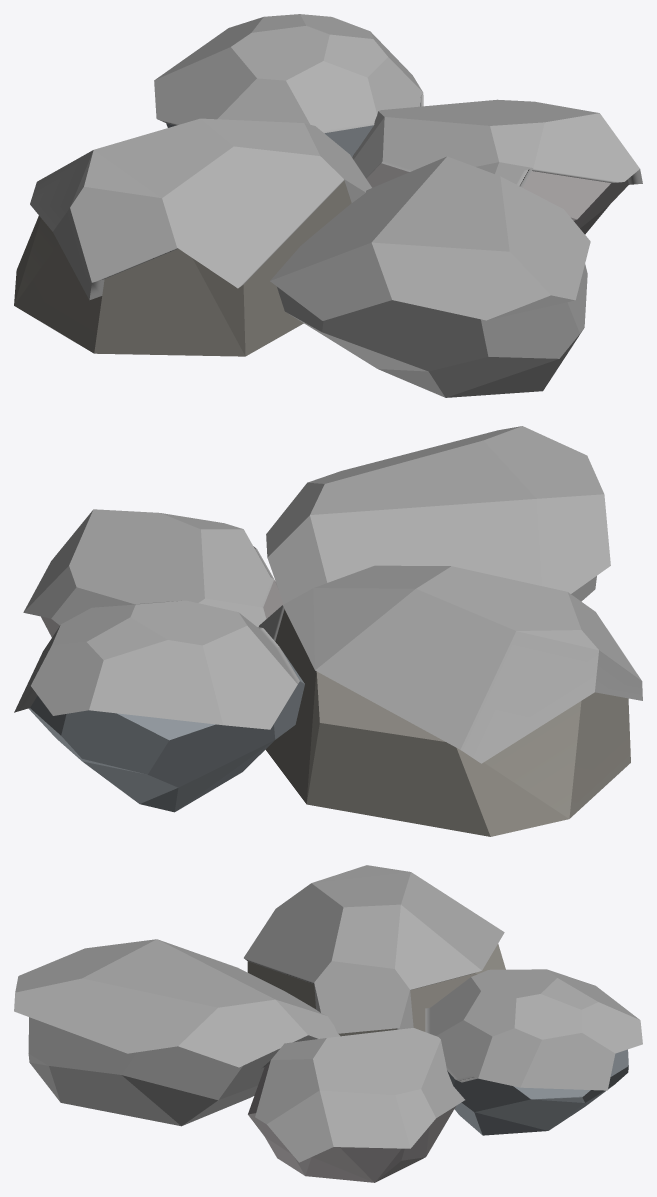
File: Rocks_Round_m_04.fbx
3 renders of one model, top to bottom at view 1: azimuth 30°, elevation 25°; view 2: azimuth 150°, elevation 25°; view 3: azimuth 270°, elevation 25°, orthographic. The views are drawn at different scales.
Visible parts, largest first — view 1: Rocks_Round_m_04; view 2: Rocks_Round_m_04; view 3: Rocks_Round_m_04.
Boxes of the visible parts, x1,y1,x2,y2 form: Rocks_Round_m_04: [14, 14, 642, 397]; Rocks_Round_m_04: [14, 426, 642, 836]; Rocks_Round_m_04: [14, 865, 642, 1182].
Bounding box in the file's own units: 226 × 65.36 × 263.
